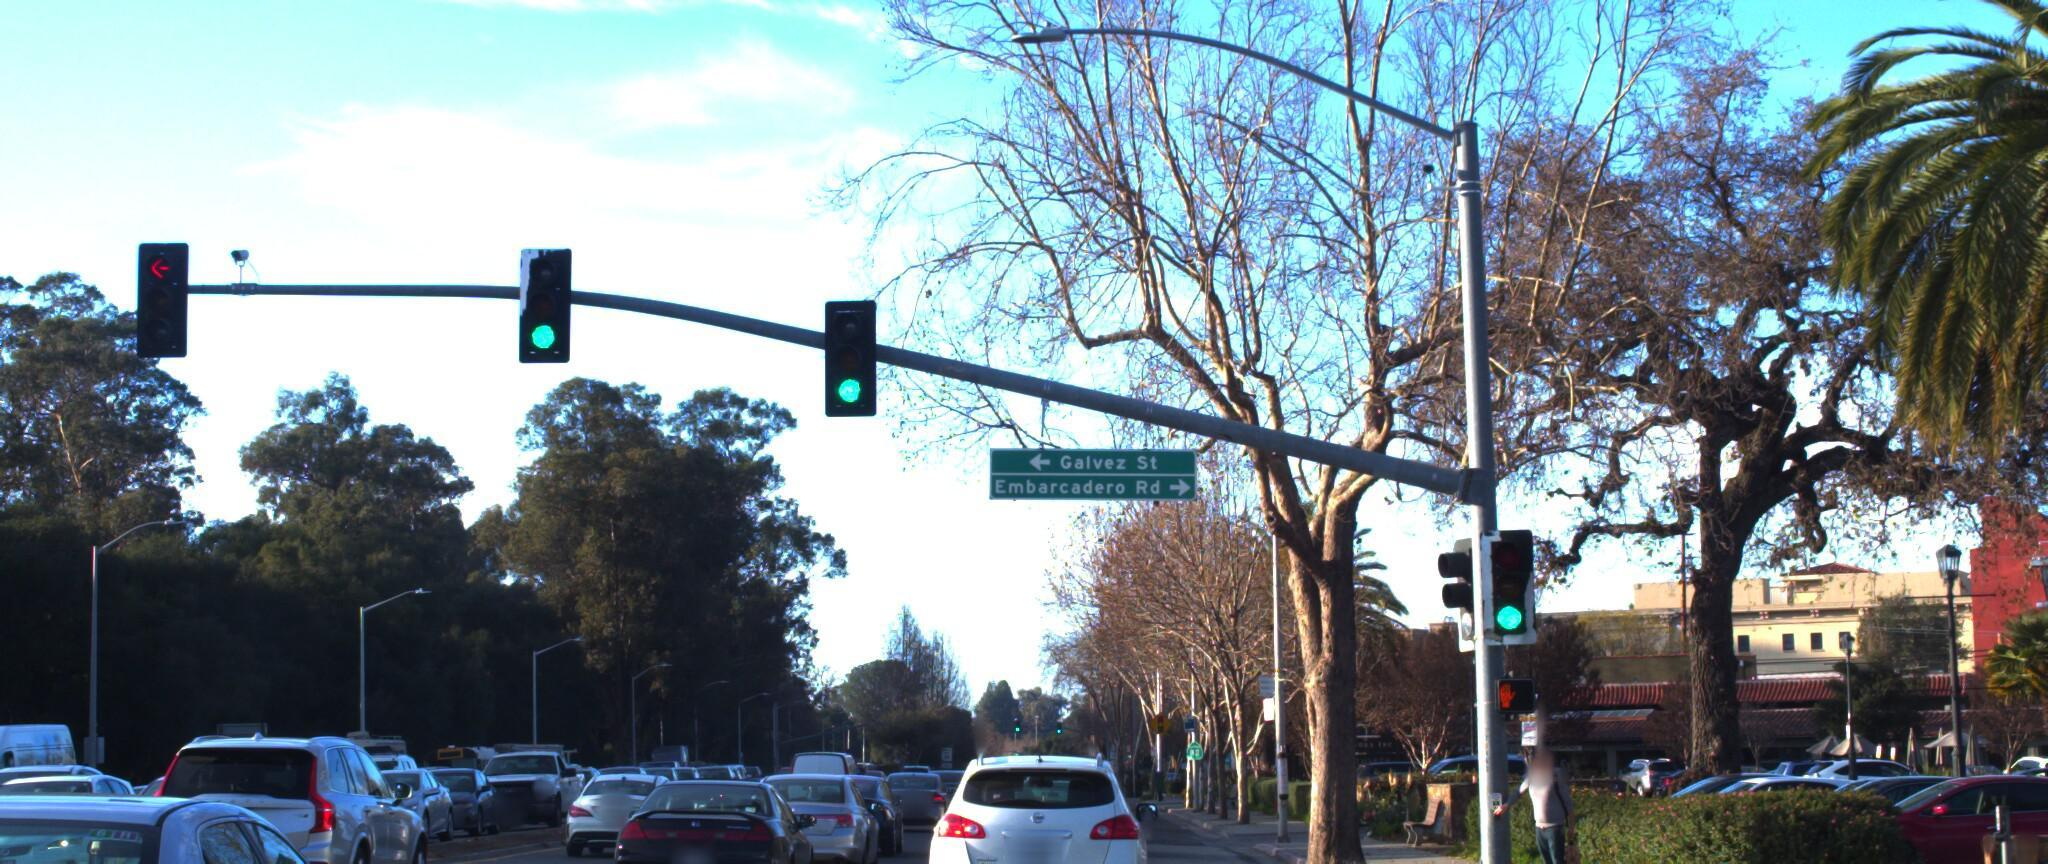car: (141, 713, 439, 864), (0, 779, 447, 864), (917, 730, 1155, 864), (1789, 752, 2048, 864), (1604, 756, 1878, 847), (614, 752, 818, 864), (0, 760, 170, 864), (735, 748, 886, 864), (562, 737, 687, 847), (0, 760, 131, 864), (464, 724, 592, 824), (0, 711, 81, 864), (870, 748, 950, 820)
